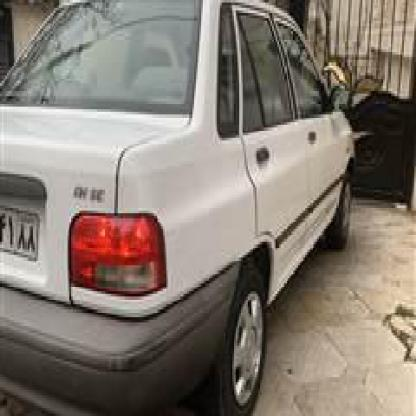car: (0, 0, 365, 414)
